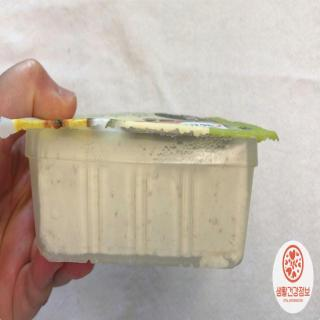Tahu: (17, 111, 261, 283)
